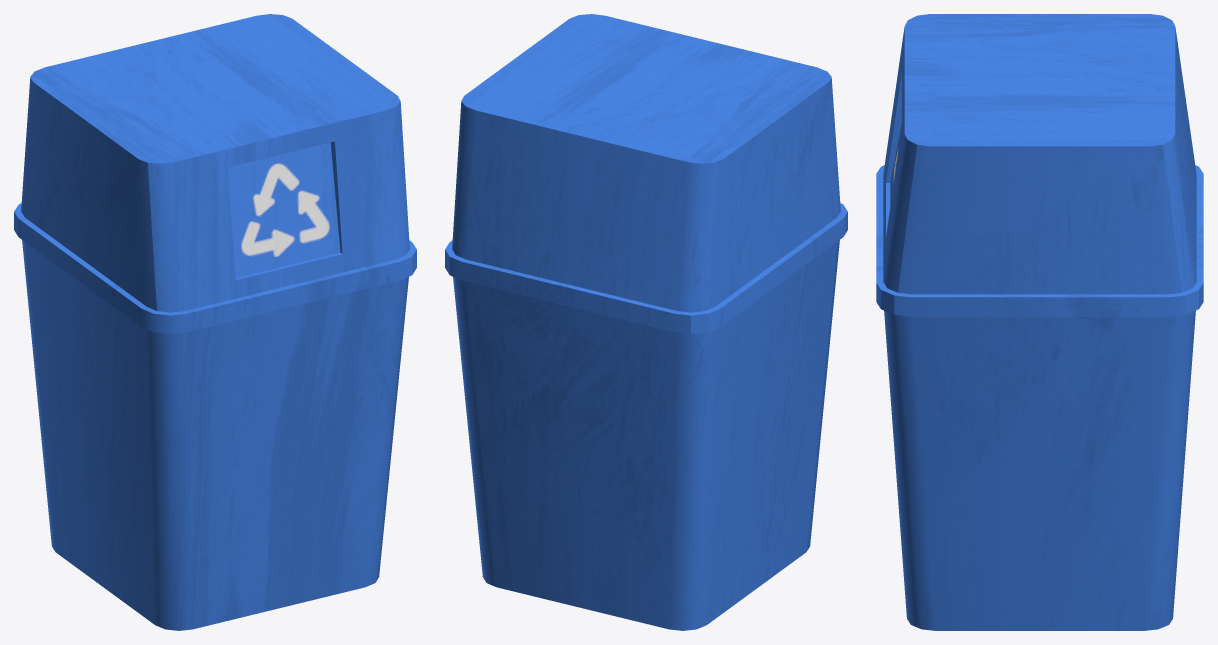
Rendered from team trash 1.fbx.
3 renders of one model, left to right at view 1: azimuth 30°, elevation 25°; view 2: azimuth 150°, elevation 25°; view 3: azimuth 270°, elevation 25°, orthographic. The views are drawn at different scales.
Visible parts, largest first — view 1: trash_2; view 2: trash_2; view 3: trash_2.
Boxes of the visible parts, x1,y1,x2,y2 form: trash_2: (14,14,416,630); trash_2: (445,14,847,630); trash_2: (876,14,1203,630).
Bounding box in the file's own units: 174 × 290 × 174.
Materials: 1 (1 with a texture image).
